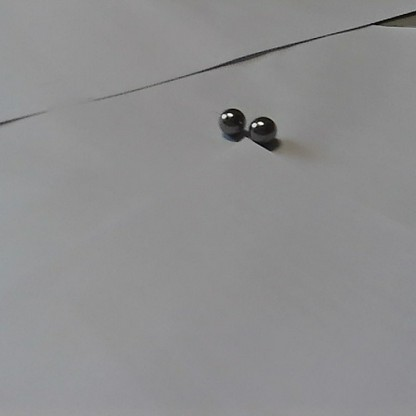ironball: (244, 111, 279, 146), (215, 105, 244, 136)
